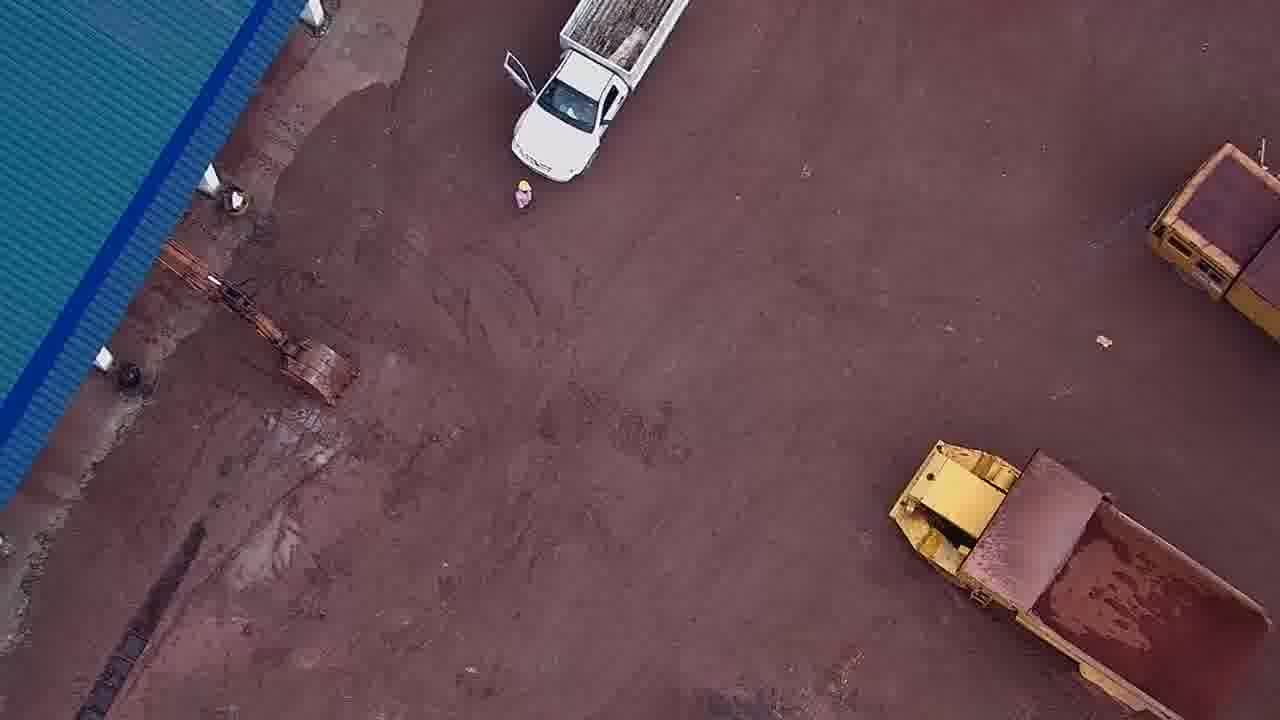heavy_motor_vehicle: (887, 435, 1276, 718)
light_motor_vehicle: (501, 1, 690, 183)
person: (513, 180, 535, 216)
